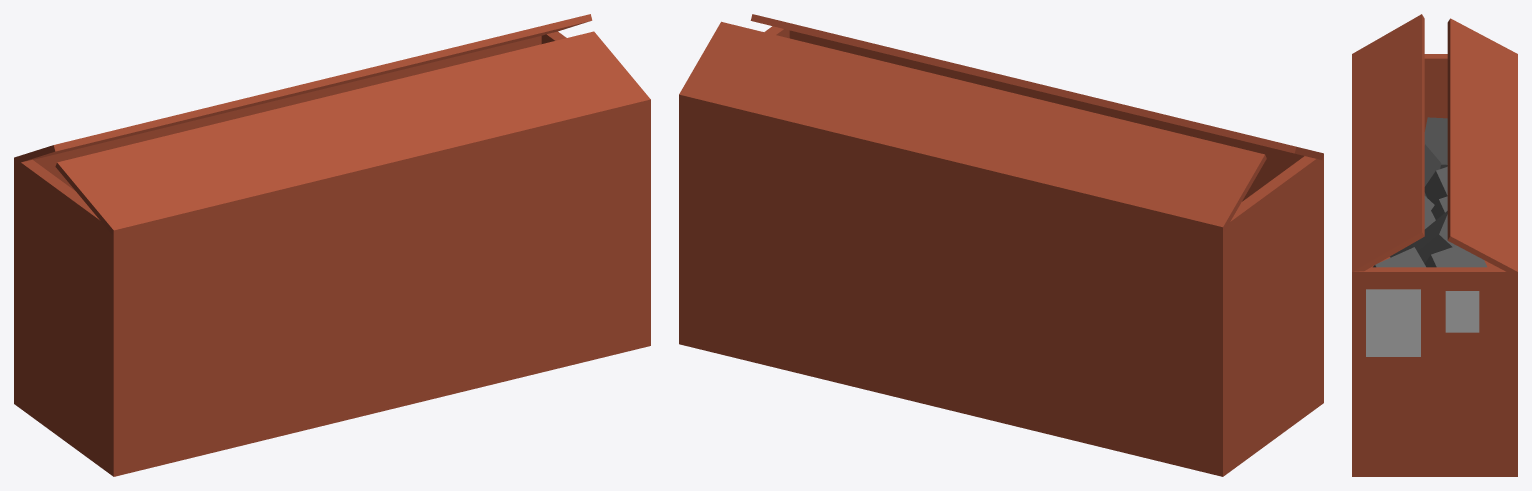
File: caja_de_tornillos 1.fbx
3 views of the same model, side by side, from view 1: azimuth 30°, elevation 25°; view 2: azimuth 150°, elevation 25°; view 3: azimuth 270°, elevation 25° (orthographic). The views are drawn at different scales.
Parts seen in each view (by area): view 1: caja_a; view 2: caja_a; view 3: caja_a.
Boxes of the visible parts, box(x1,y1,x2,y2) form: caja_a: box(14, 14, 650, 476); caja_a: box(679, 14, 1323, 476); caja_a: box(1352, 14, 1517, 476).
Bounding box in the file's own units: 0.7095 × 0.3551 × 0.222.
